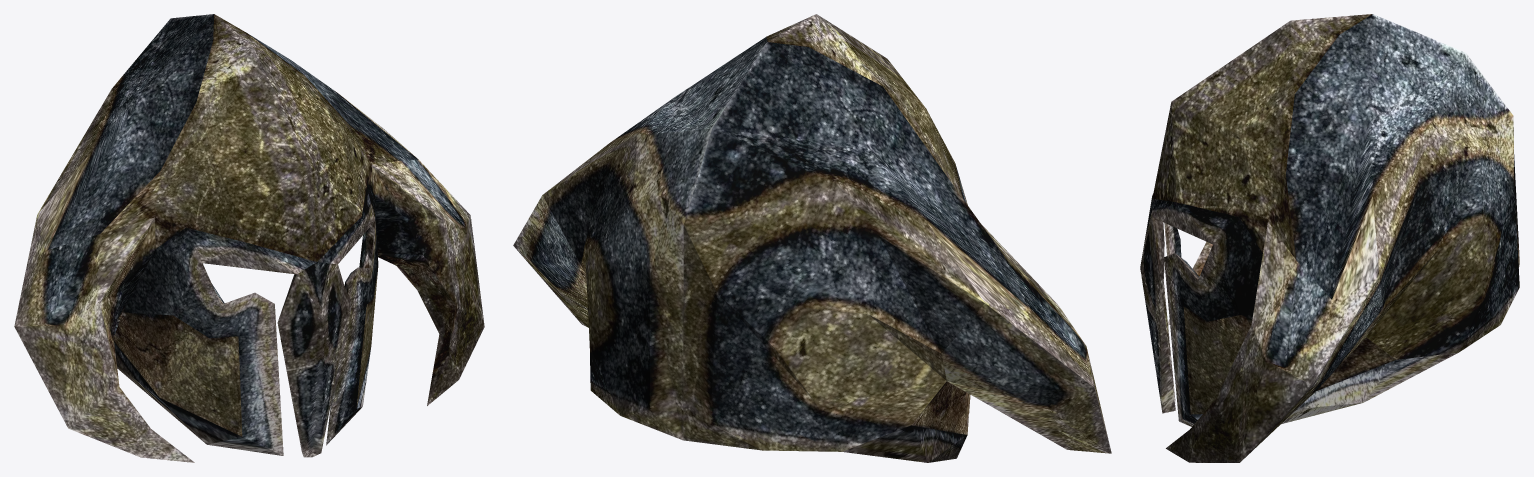
File: WIKING3.glb
3 views of the same model, side by side, from view 1: azimuth 30°, elevation 25°; view 2: azimuth 150°, elevation 25°; view 3: azimuth 270°, elevation 25° (orthographic). The views are drawn at different scales.
Visible parts, largest first — view 1: WIKING3; view 2: WIKING3; view 3: WIKING3.
Part boxes in pixels (left/top/right/bottom): WIKING3: left=14, top=14, right=484, bottom=462; WIKING3: left=513, top=14, right=1111, bottom=462; WIKING3: left=1140, top=14, right=1519, bottom=462.
Size of the model in its own units: 0.4441 by 0.3452 by 0.2991.
1 material, 1 textured.
